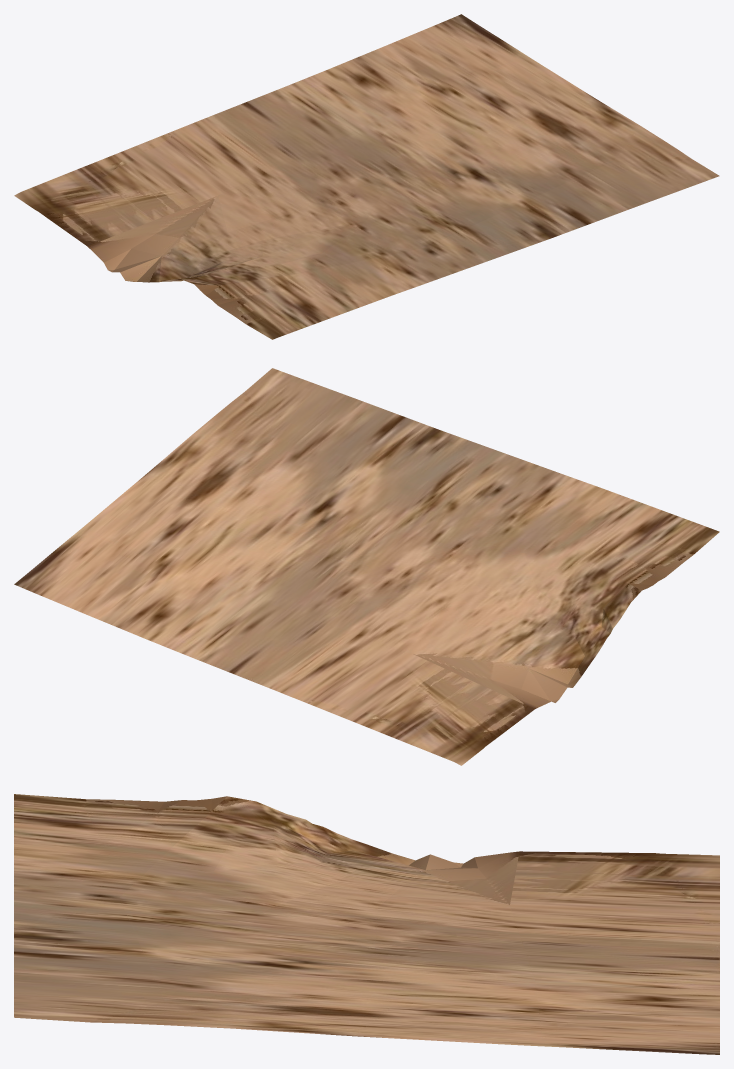
The picture shows the model from 3 angles, top to bottom: view 1: azimuth 30°, elevation 25°; view 2: azimuth 150°, elevation 25°; view 3: azimuth 270°, elevation 25°; orthographic projection. The views are drawn at different scales.
Bounding box in the file's own units: 2.09 × 0.4714 × 2.09.
2 materials, 2 textured.
